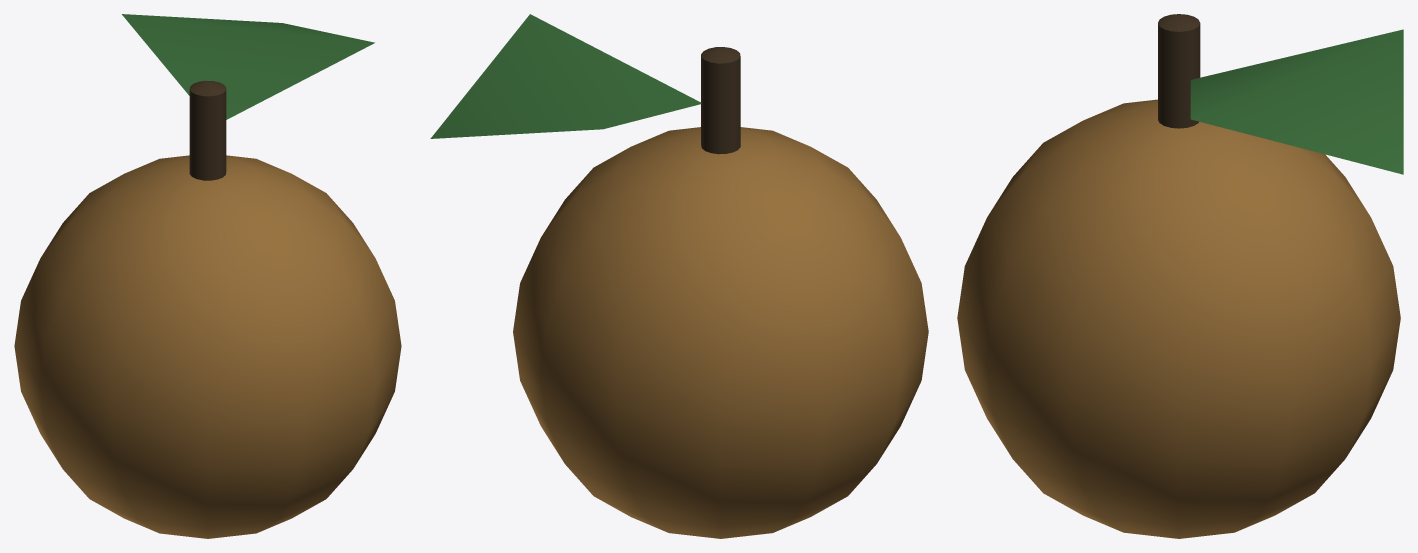
File: Health_PickUp_V1.fbx
3 views of the same model, side by side, from view 1: azimuth 30°, elevation 25°; view 2: azimuth 150°, elevation 25°; view 3: azimuth 270°, elevation 25° (orthographic). The views are drawn at different scales.
Parts seen in each view (by area): view 1: Orange1; view 2: Orange1; view 3: Orange1.
Part boxes in pixels (<box>): Orange1: <box>14,14,401,538</box>; Orange1: <box>430,14,928,538</box>; Orange1: <box>957,14,1403,538</box>.
Size of the model in its own units: 1.52 by 1.87 by 1.5.
